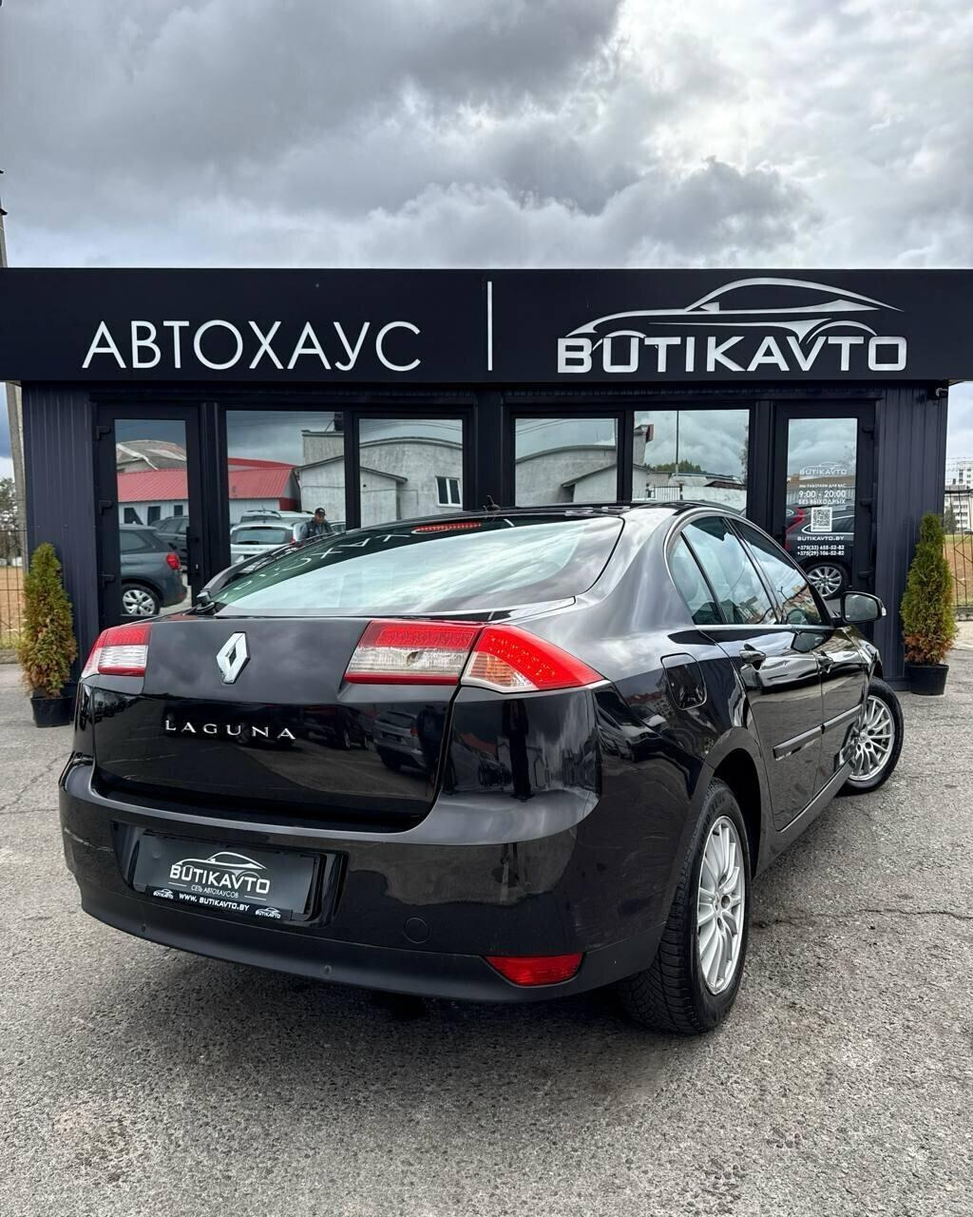Laguna_2010-2015: (48, 491, 907, 1027)
